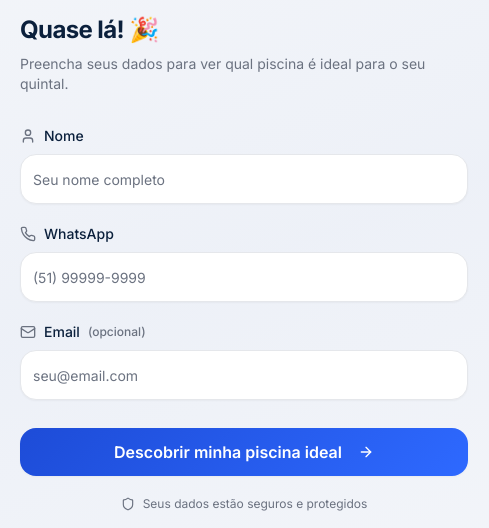
Test case: LeadForm › formats phone input correctly
Type "51999999999" into the field with placeholder "(51) 99999-9999".
click(244, 277); type("51999999999")  # box [20, 252, 468, 302]
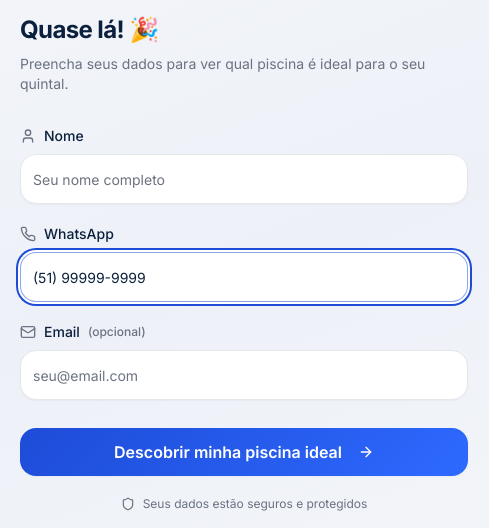
Check: the field with placeholder "(51) 99999-9999" holds "(51) 99999-9999", box [20, 252, 468, 302]
